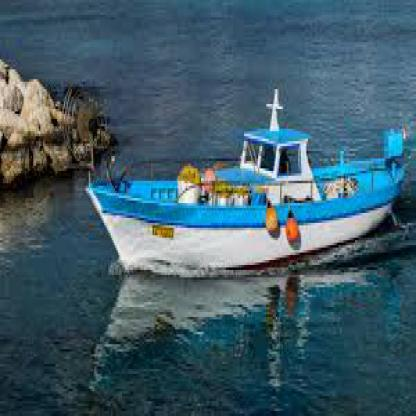fish-b: (76, 82, 413, 290)
